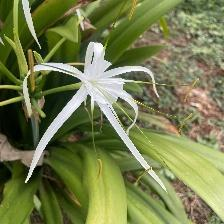spider lily: (61, 54, 146, 126)
